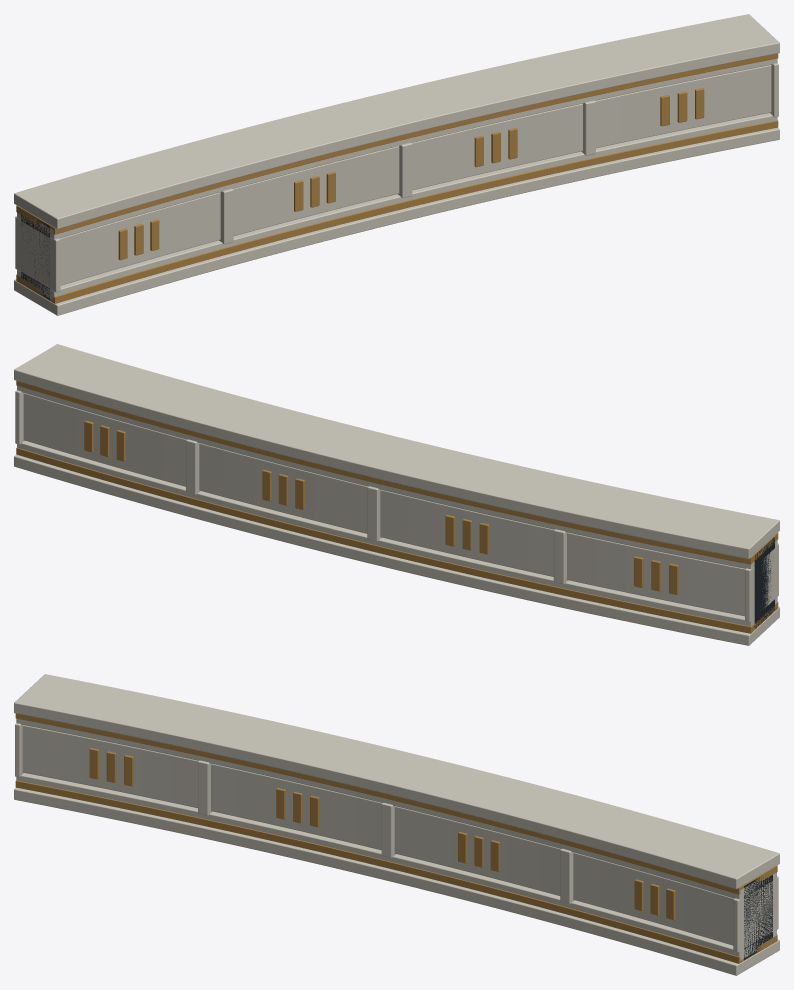
Rendered from SM_Aurelion_KIT_Z10CeilingRing40.fbx.
The picture shows the model from 3 angles, top to bottom: view 1: azimuth 30°, elevation 25°; view 2: azimuth 150°, elevation 25°; view 3: azimuth 330°, elevation 25°; orthographic projection.
Visible parts, largest first — view 1: SM_Aurelion_KIT_Z10CeilingRing40; view 2: SM_Aurelion_KIT_Z10CeilingRing40; view 3: SM_Aurelion_KIT_Z10CeilingRing40.
Boxes of the visible parts, x1=… form: SM_Aurelion_KIT_Z10CeilingRing40: x1=14, y1=14, x2=779, y2=315; SM_Aurelion_KIT_Z10CeilingRing40: x1=14, y1=344, x2=779, y2=645; SM_Aurelion_KIT_Z10CeilingRing40: x1=14, y1=674, x2=779, y2=975.
Bounding box in the file's own units: 791 × 89.02 × 100.
